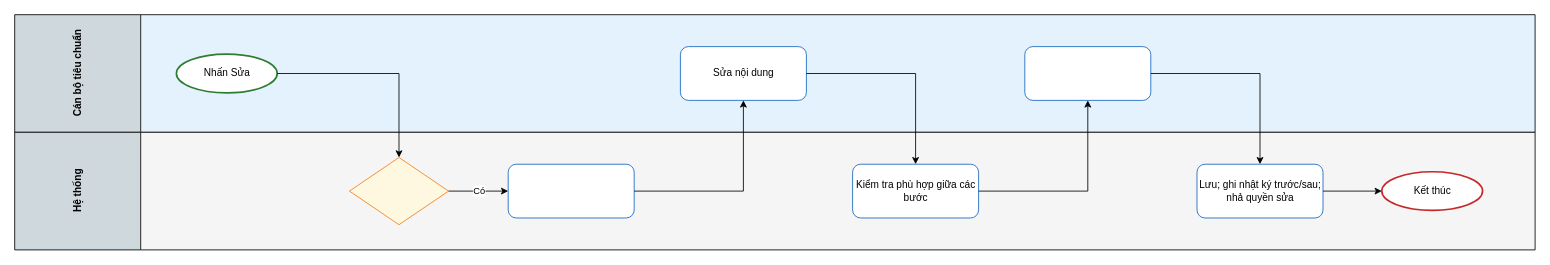
Some shapes in this 1550 by 265 pixel diagram are drawn without their labels. Each missing label, with the centre of its shape:
Giữ quyền sửa; hiển thị ý kiến trả lại: the point at 570,190
Nháp, thuộc đơn vị, không ai đang sửa?: the point at 399,191
Nhấn Lưu: the point at 1087,73
